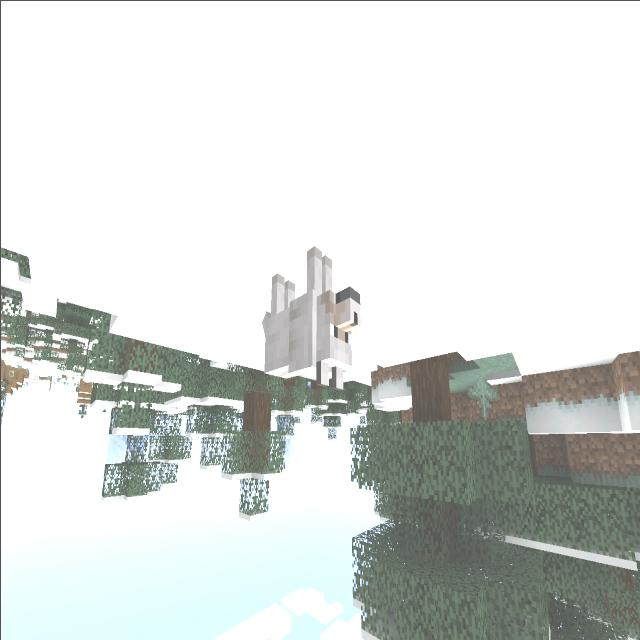Wolf: (248, 221, 368, 399)
